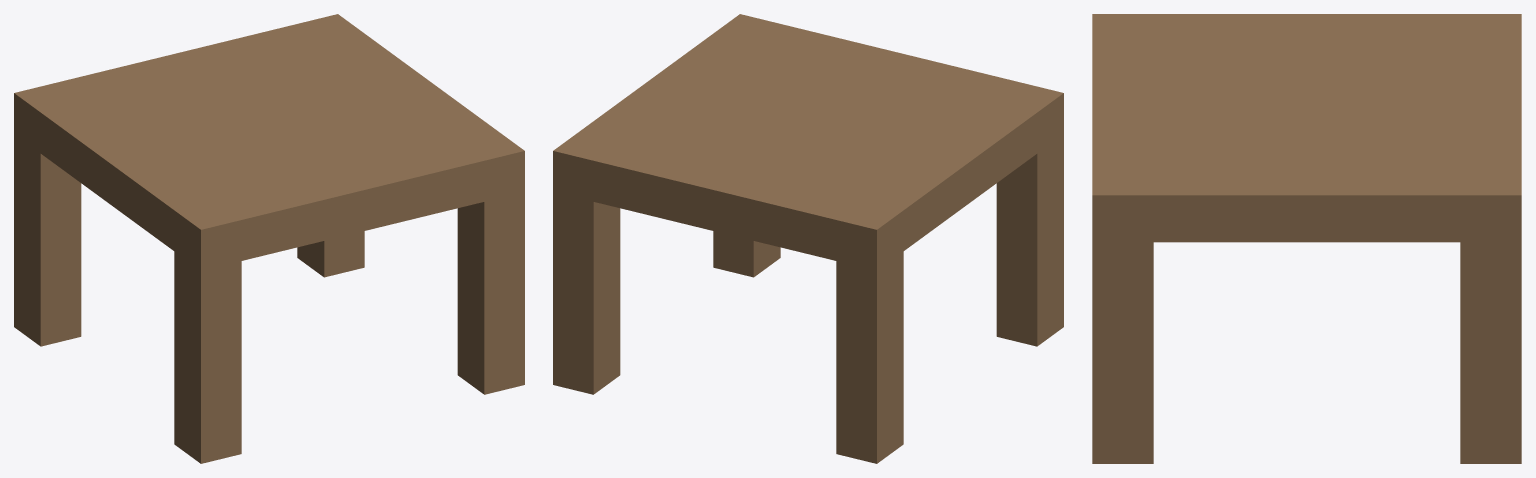
Rendered from Table.fbx.
The picture shows the model from 3 angles, left to right: view 1: azimuth 30°, elevation 25°; view 2: azimuth 150°, elevation 25°; view 3: azimuth 270°, elevation 25°; orthographic projection. The views are drawn at different scales.
Parts seen in each view (by area): view 1: Table; view 2: Table; view 3: Table.
Part boxes in pixels (x1,y1,x2,y2): Table: [14, 14, 524, 463]; Table: [553, 14, 1063, 463]; Table: [1092, 14, 1521, 463].
Bounding box in the file's own units: 111 × 76.99 × 111.
